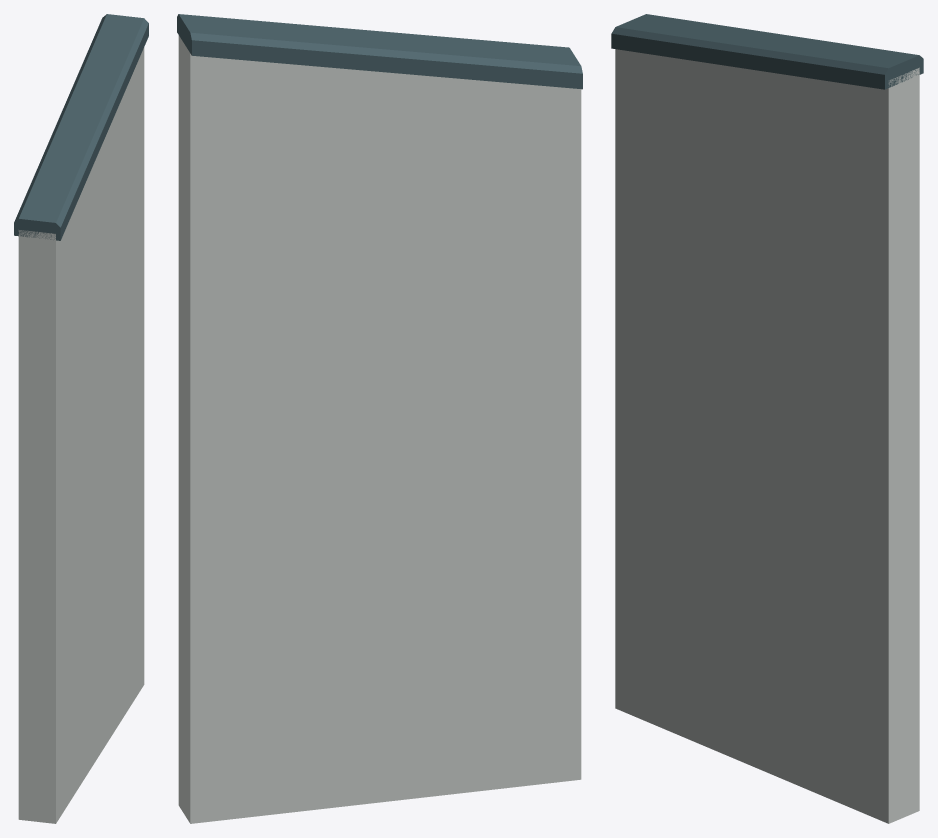
File: halfwall_45_port_rise_5.glb
3 renders of one model, left to right at view 1: azimuth 30°, elevation 25°; view 2: azimuth 150°, elevation 25°; view 3: azimuth 270°, elevation 25°, orthographic. The views are drawn at different scales.
Parts seen in each view (by area): view 1: Seamless solid halfwall.008, Seamless top cap.008; view 2: Seamless solid halfwall.008, Seamless top cap.008; view 3: Seamless solid halfwall.008, Seamless top cap.008.
Part boxes in pixels (bbox=[...]): Seamless solid halfwall.008: bbox=[18, 47, 144, 823]; Seamless top cap.008: bbox=[14, 14, 148, 240]; Seamless solid halfwall.008: bbox=[178, 35, 581, 823]; Seamless top cap.008: bbox=[177, 14, 582, 89]; Seamless solid halfwall.008: bbox=[615, 49, 919, 823]; Seamless top cap.008: bbox=[611, 14, 923, 89].
Size of the model in its own units: 0.5707 by 1.52 by 0.5707.
